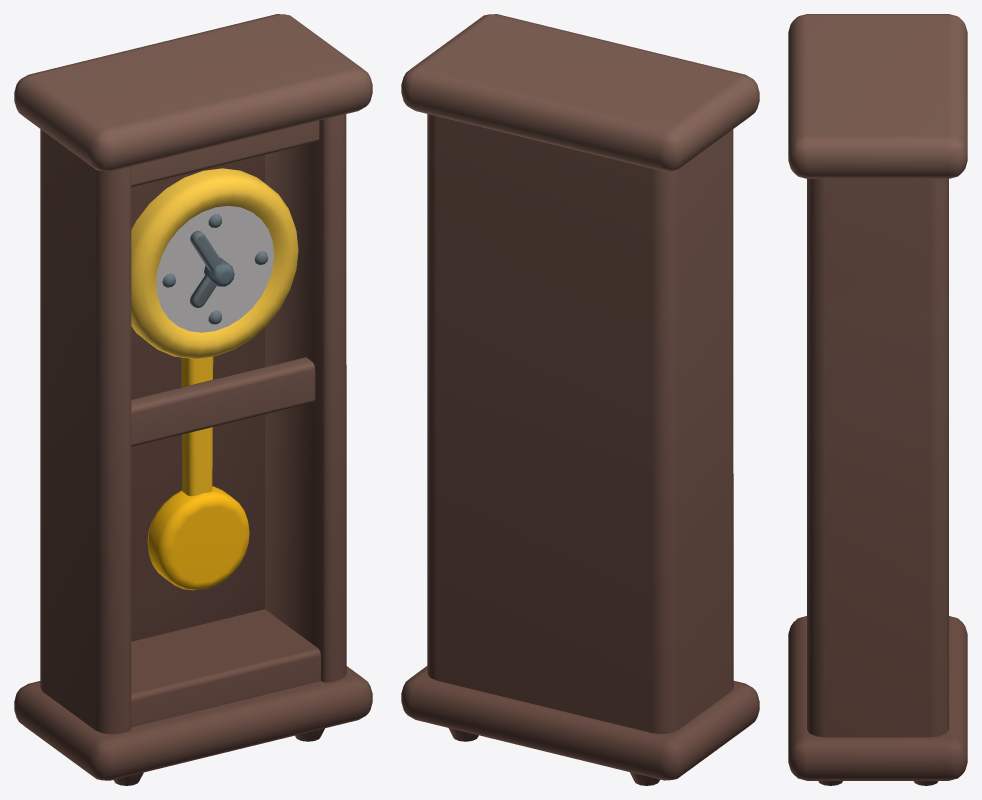
The model's file is cute-furniture-glb-clock-03.glb.
The picture shows the model from 3 angles, left to right: view 1: azimuth 30°, elevation 25°; view 2: azimuth 150°, elevation 25°; view 3: azimuth 270°, elevation 25°; orthographic projection.
Parts seen in each view (by area): view 1: Clock_03; view 2: Clock_03; view 3: Clock_03.
Part boxes in pixels (bbox=[...]): Clock_03: bbox=[14, 14, 372, 785]; Clock_03: bbox=[401, 14, 759, 785]; Clock_03: bbox=[788, 14, 967, 785].
Size of the model in its own units: 0.68 by 1.55 by 0.38.
1 material, 1 textured.
